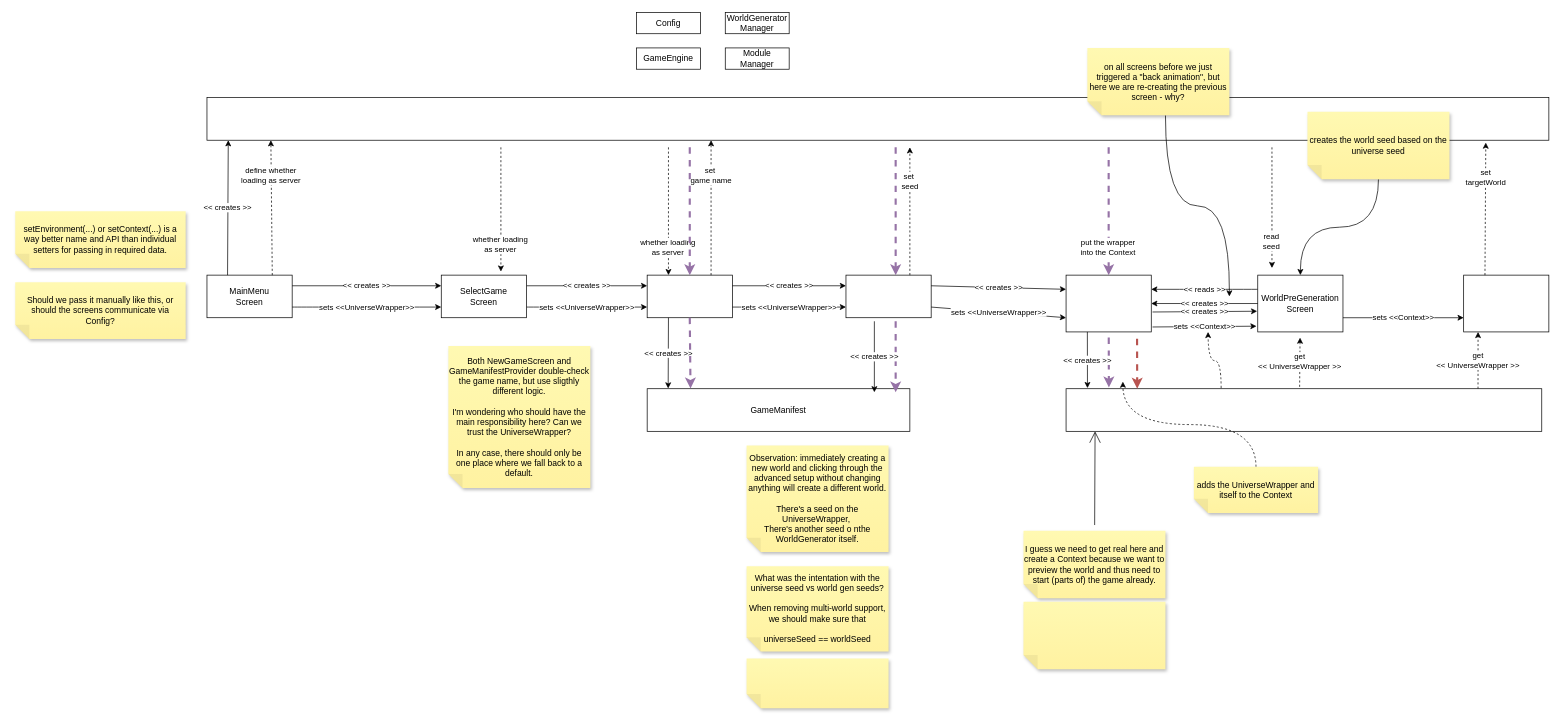
The diagram is 1561 pixels wide and 726 high, and some of its shapes have lost their labels. Each missing label, with the centre of its shape:
"AdvancedGameSetup Screen" belongs at (888,296).
"can we just remove the UniverseConfig and/or UniverseWrapper?" belongs at (817,684).
"Contains (among others): - UniverseSetupScreen - UniverseWrapper" belongs at (1094,636).
"Context" belongs at (1303,409).
"NewGame Screen" belongs at (689,296).
"StartPlaying Screen" belongs at (1506,303).
"UniverseSetup Screen" belongs at (1108,303).
"UniverseWrapper" belongs at (877,118).
